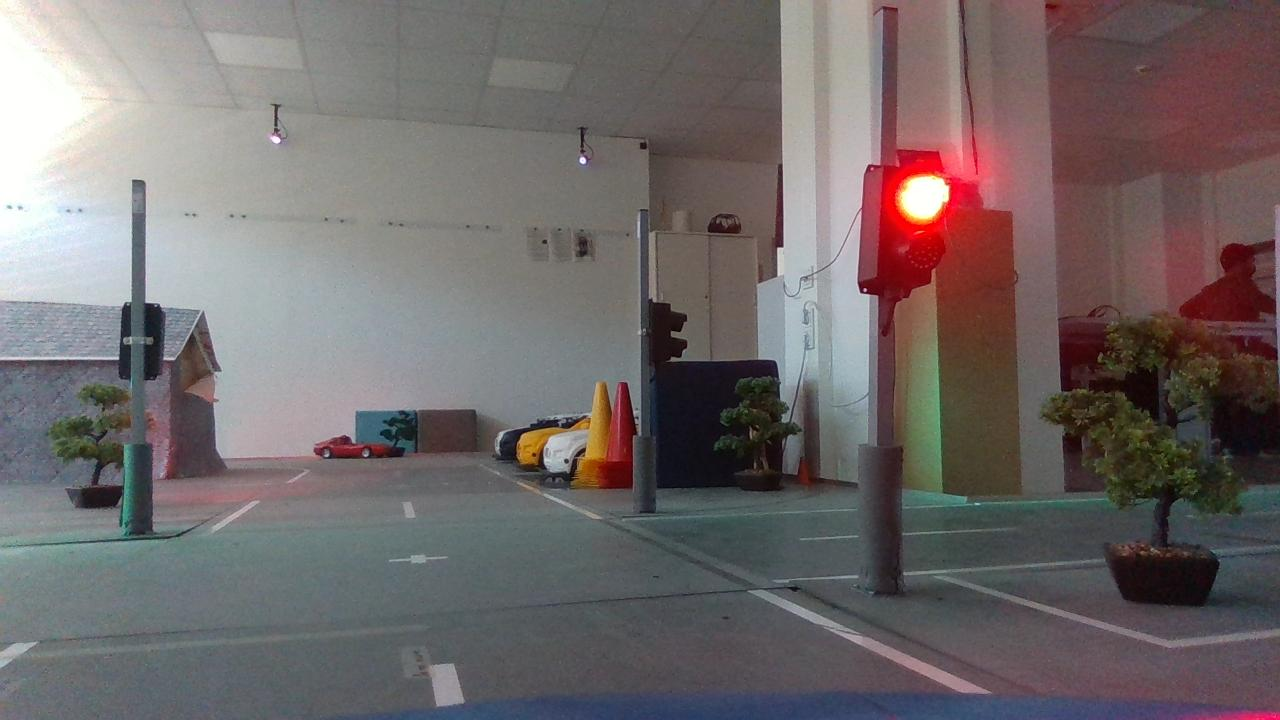traffic_light_red: (845, 153, 963, 322)
